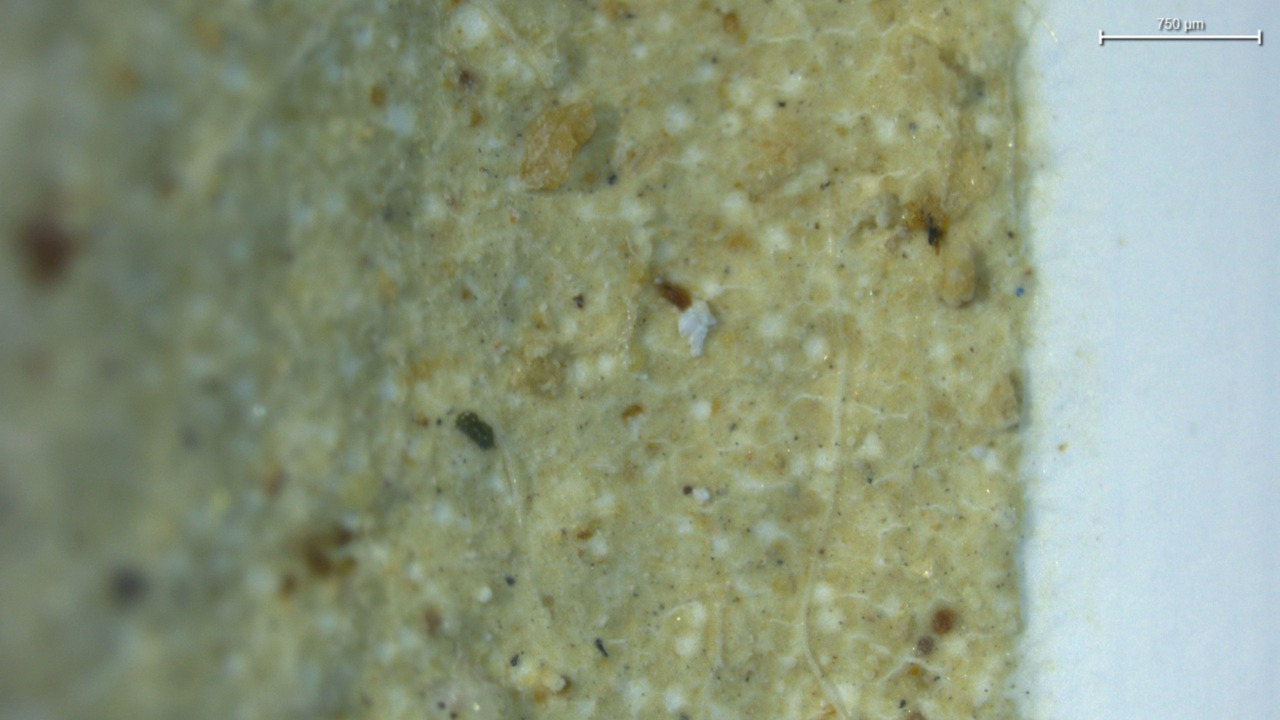microplastic_fragment: (518, 102, 597, 191), (679, 298, 714, 356), (940, 245, 974, 303)
